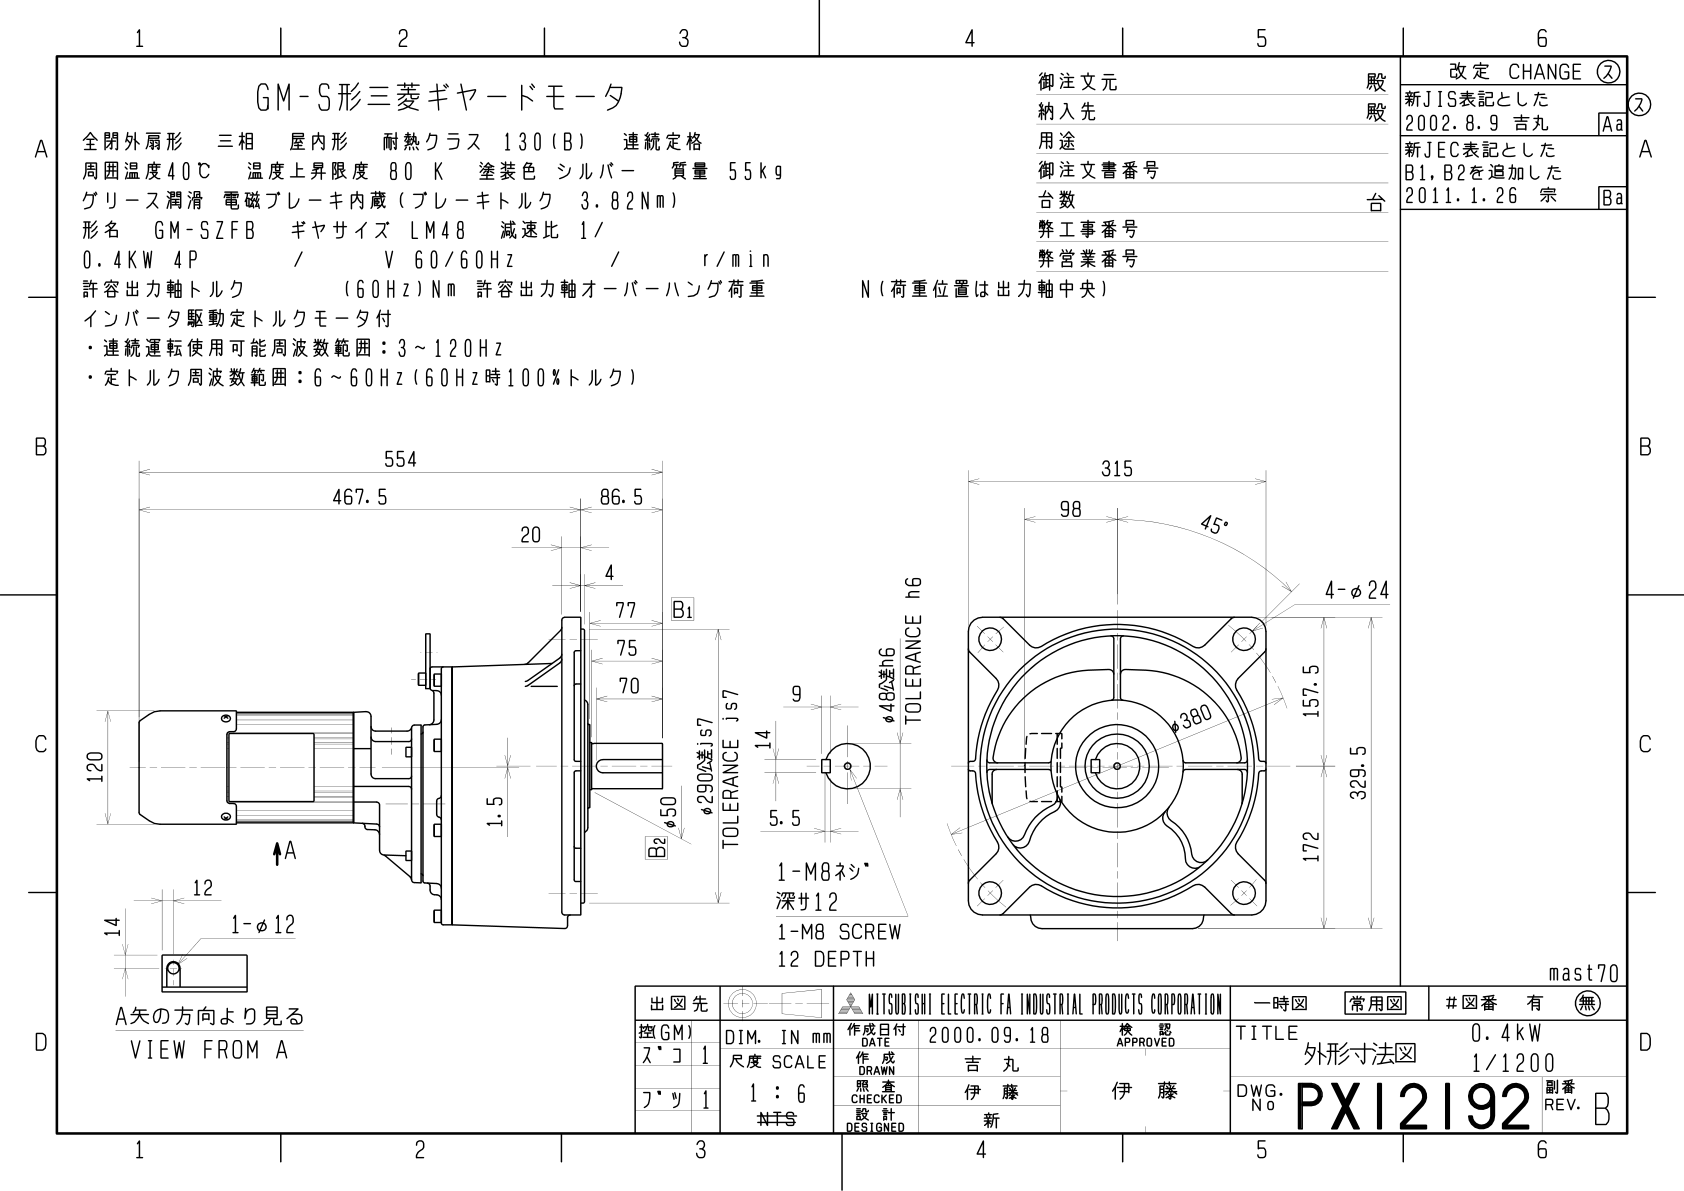GM_S_インバタ屋内＿三相_フランジ: (64, 421, 1395, 973)
